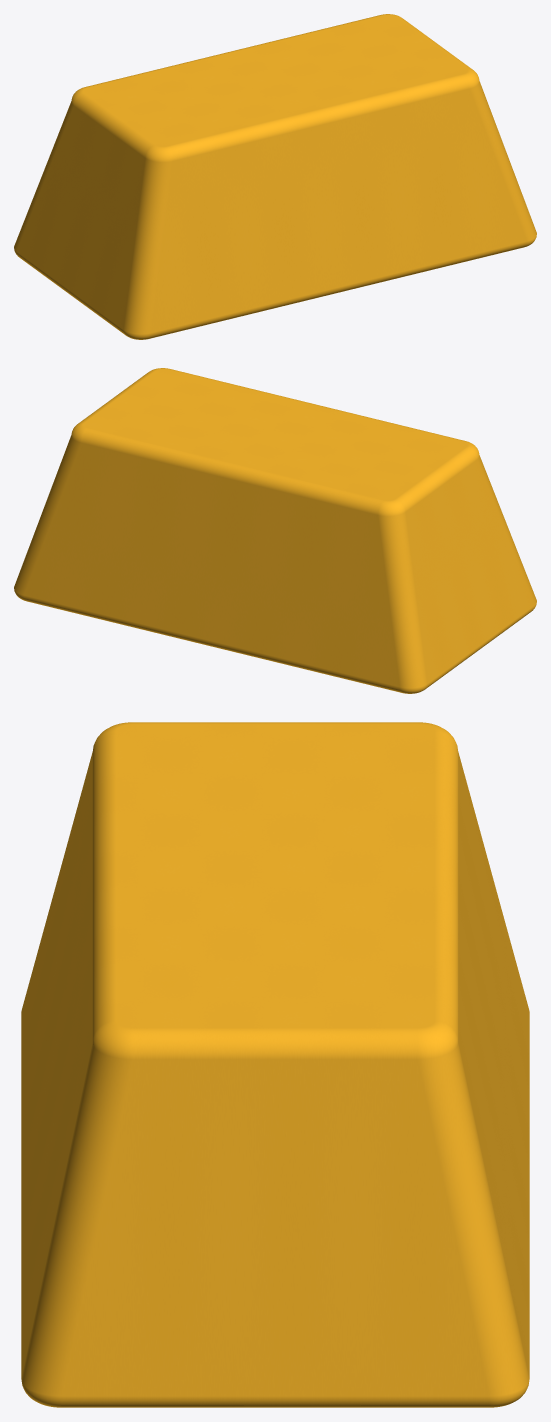
Rendered from GoldBar.glb.
The picture shows the model from 3 angles, top to bottom: view 1: azimuth 30°, elevation 25°; view 2: azimuth 150°, elevation 25°; view 3: azimuth 270°, elevation 25°; orthographic projection. The views are drawn at different scales.
Parts seen in each view (by area): view 1: GoldBar; view 2: GoldBar; view 3: GoldBar.
Boxes of the visible parts, <box> form: GoldBar: <box>14,14,536,339</box>; GoldBar: <box>14,368,536,693</box>; GoldBar: <box>21,722,529,1407</box>.
Size of the model in its own units: 0.28 by 0.11 by 0.15.
Materials: 1 (1 with a texture image).
